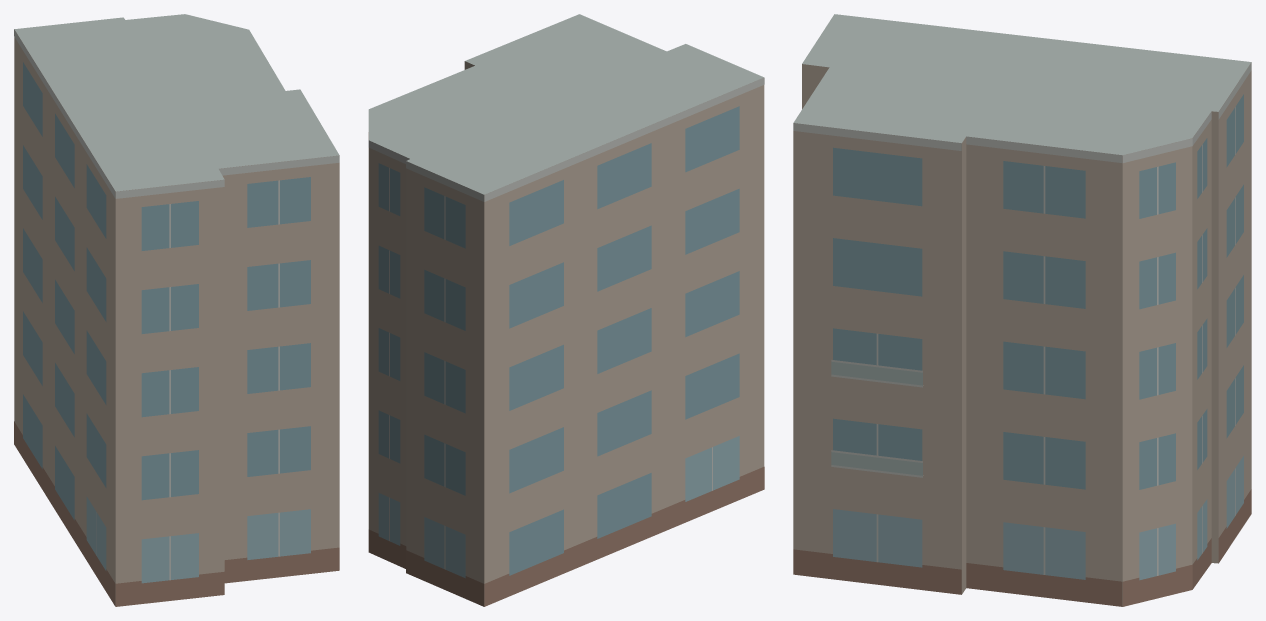
File: survey-upis-33031064.glb
3 views of the same model, side by side, from view 1: azimuth 30°, elevation 25°; view 2: azimuth 150°, elevation 25°; view 3: azimuth 270°, elevation 25° (orthographic). The views are drawn at different scales.
Visible parts, largest first — view 1: survey-upis-33031064.tmp; view 2: survey-upis-33031064.tmp; view 3: survey-upis-33031064.tmp.
Part boxes in pixels (left/top/right/bottom): survey-upis-33031064.tmp: left=14, top=14, right=339, bottom=606; survey-upis-33031064.tmp: left=368, top=14, right=764, bottom=606; survey-upis-33031064.tmp: left=793, top=14, right=1251, bottom=606.
Bounding box in the file's own units: 9.27 × 13.8 × 12.7.
